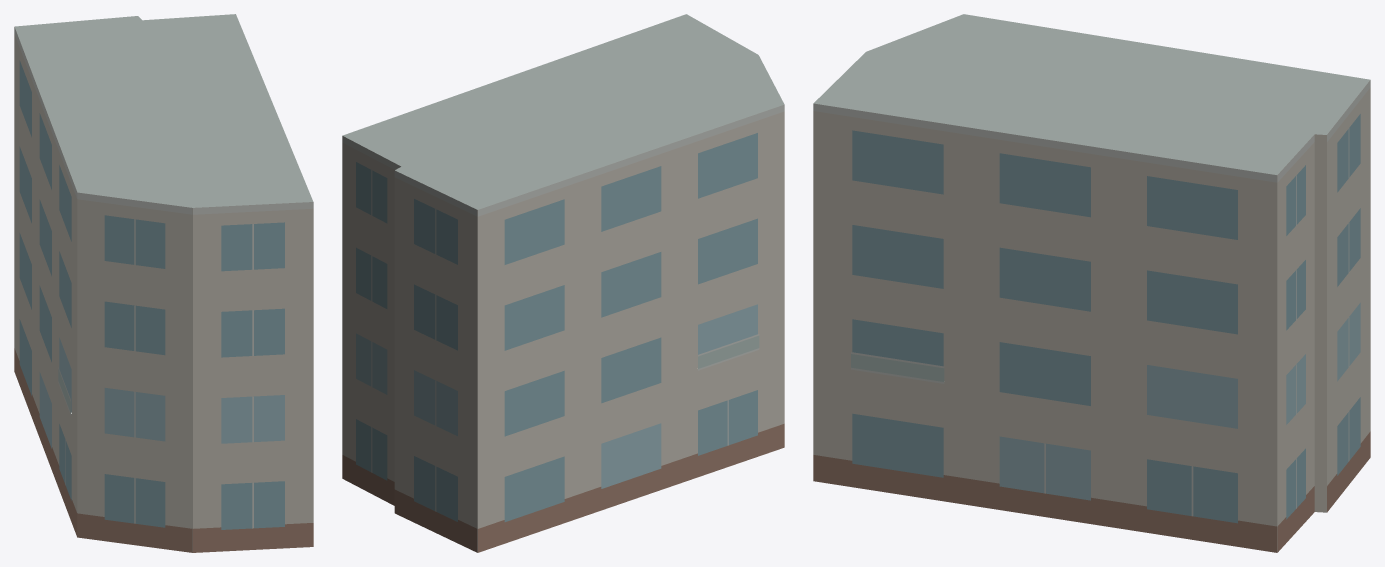
File: survey-upis-32660605.glb
3 renders of one model, left to right at view 1: azimuth 30°, elevation 25°; view 2: azimuth 150°, elevation 25°; view 3: azimuth 270°, elevation 25°, orthographic. The views are drawn at different scales.
Visible parts, largest first — view 1: survey-upis-32660605.tmp; view 2: survey-upis-32660605.tmp; view 3: survey-upis-32660605.tmp.
Boxes of the visible parts, x1,y1,x2,y2 form: survey-upis-32660605.tmp: (14, 14, 313, 552); survey-upis-32660605.tmp: (342, 14, 784, 552); survey-upis-32660605.tmp: (813, 14, 1370, 552).
Bounding box in the file's own units: 11.27 × 12.3 × 16.46.
